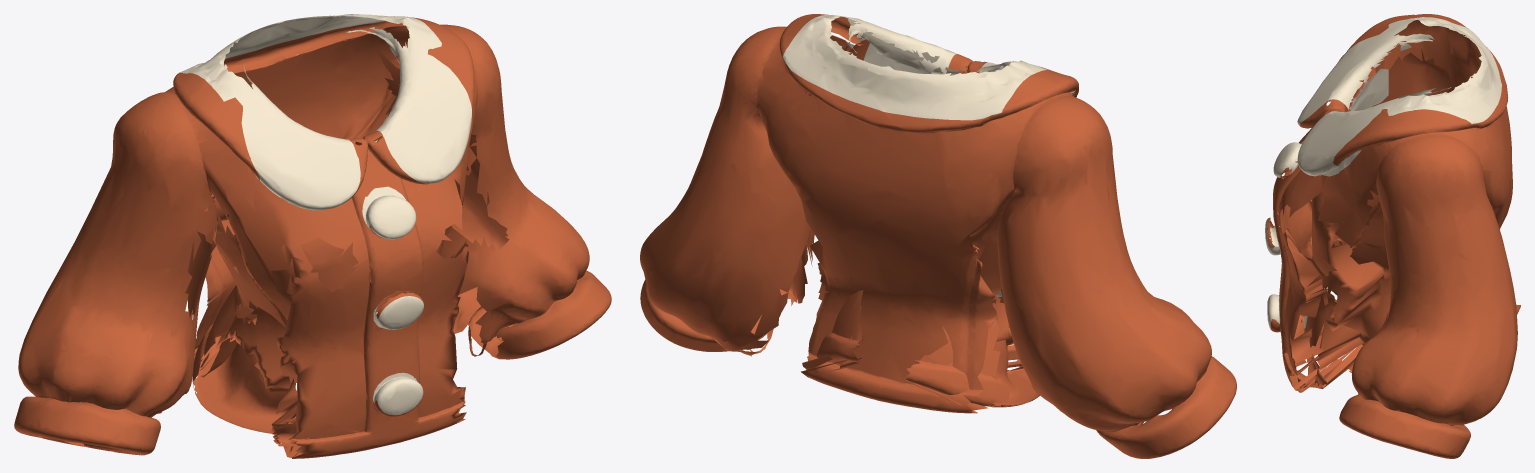
File: top_f_fallblouse2.glb
The picture shows the model from 3 angles, left to right: view 1: azimuth 30°, elevation 25°; view 2: azimuth 150°, elevation 25°; view 3: azimuth 270°, elevation 25°; orthographic projection. The views are drawn at different scales.
Visible parts, largest first — view 1: top_f_fallblouse2; view 2: top_f_fallblouse2; view 3: top_f_fallblouse2.
Part boxes in pixels (x1,y1,x2,y2): top_f_fallblouse2: (14,14,611,458); top_f_fallblouse2: (640,14,1236,458); top_f_fallblouse2: (1265,14,1520,458).
Bounding box in the file's own units: 0.9896 × 0.5878 × 0.4339.
1 material, 1 textured.
